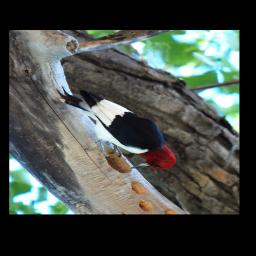Woodpecker: (52, 86, 174, 171)
